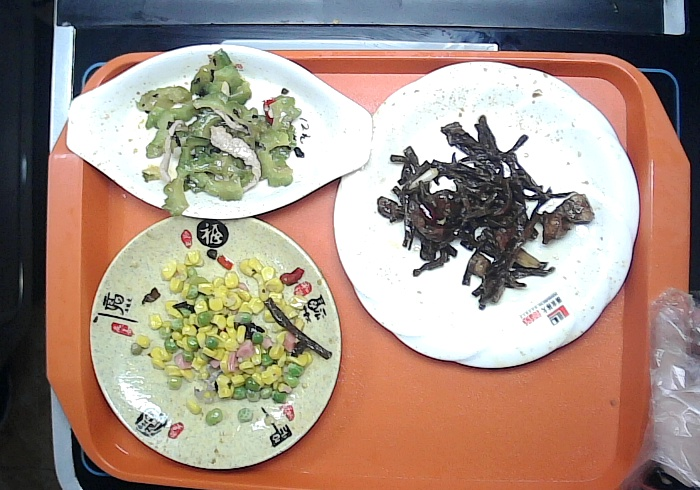NLDX-Bai_Zhe_Yuan_Pan: (328, 57, 645, 372)
NLDX-Fu_Zi_Yuan_Pan: (82, 208, 344, 473)
NLDX-Yu_Pan: (61, 41, 376, 223)
